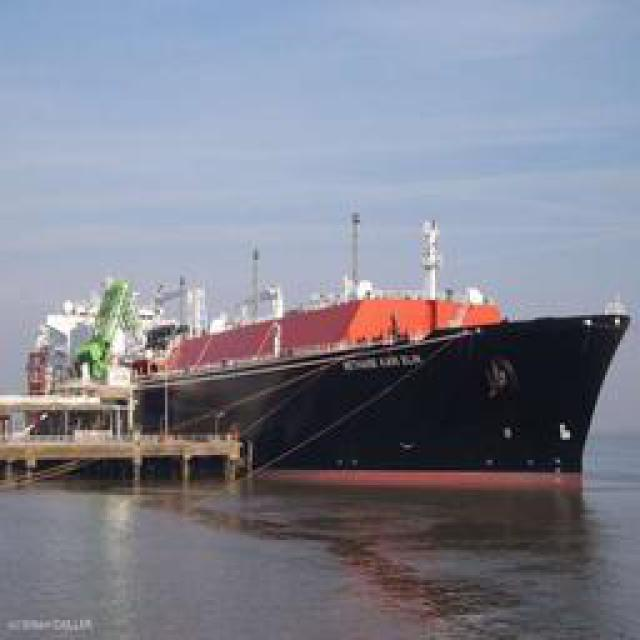Ship: (116, 307, 626, 500)
